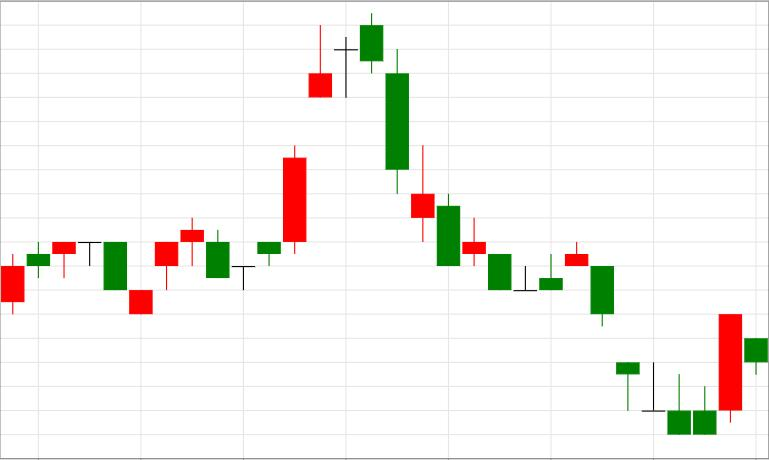shooting_star_fall: (231, 24, 333, 291)
